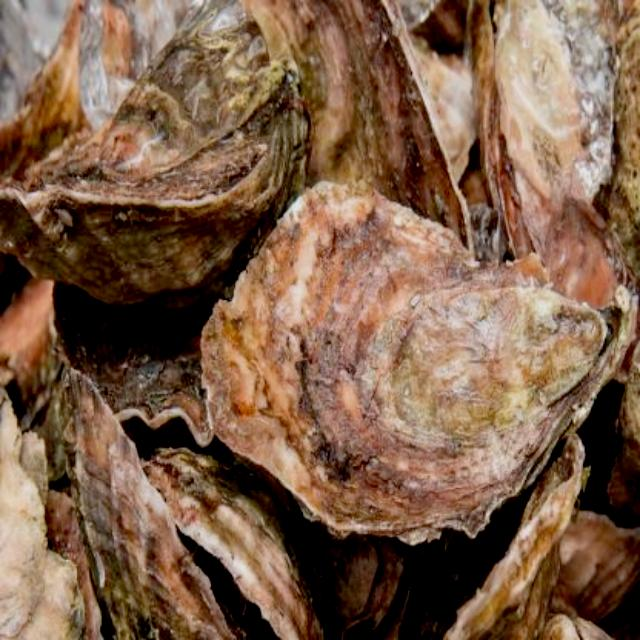Oyster-Closed: (202, 184, 630, 536), (0, 0, 312, 312), (249, 0, 470, 250), (469, 0, 638, 293), (61, 368, 236, 638), (405, 434, 584, 638), (150, 457, 318, 638), (497, 0, 617, 196), (0, 398, 79, 638), (557, 509, 638, 620), (547, 202, 623, 311), (46, 493, 100, 638), (608, 348, 638, 523), (544, 611, 608, 638)
Oyster-Open: (52, 288, 227, 452), (291, 505, 425, 638)
